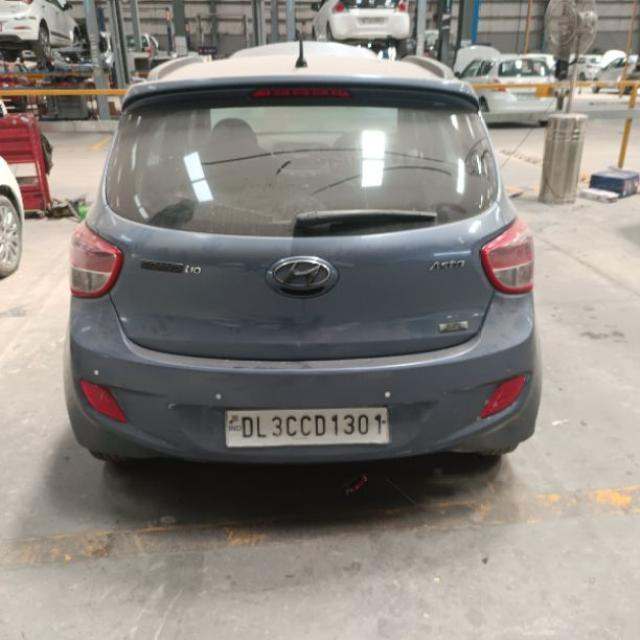license_plate: (223, 404, 390, 448)
